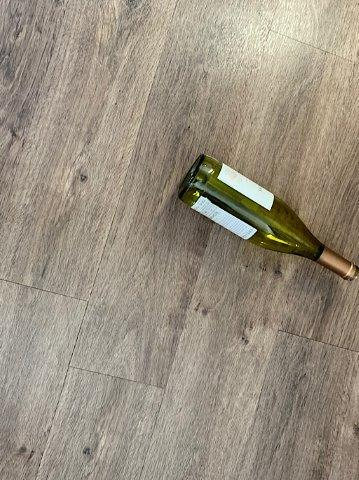botolkaca: (177, 156, 359, 281)
